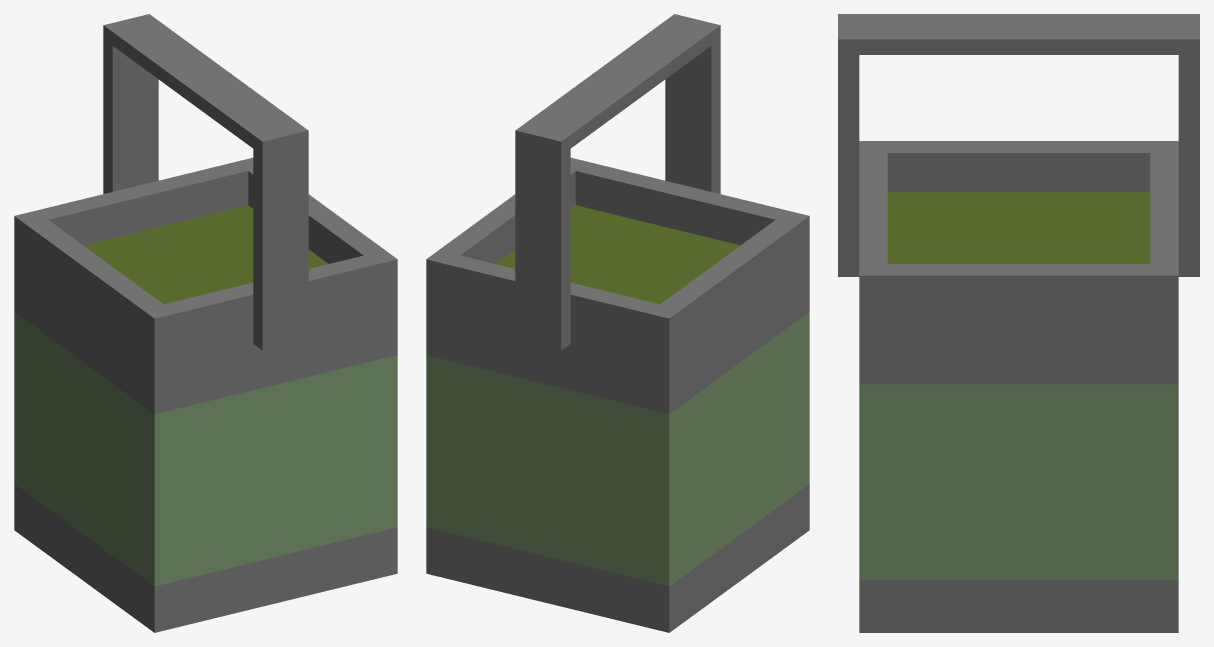
The model's file is Paint Green.gltf.
The picture shows the model from 3 angles, left to right: view 1: azimuth 30°, elevation 25°; view 2: azimuth 150°, elevation 25°; view 3: azimuth 270°, elevation 25°; orthographic projection. The views are drawn at different scales.
Parts seen in each view (by area): view 1: Pain Can; view 2: Pain Can; view 3: Pain Can.
Boxes of the visible parts, x1=… form: Pain Can: x1=14, y1=14, x2=397, y2=632; Pain Can: x1=426, y1=14, x2=809, y2=632; Pain Can: x1=838, y1=14, x2=1199, y2=632.
Bounding box in the file's own units: 2 × 3.73 × 2.27.
